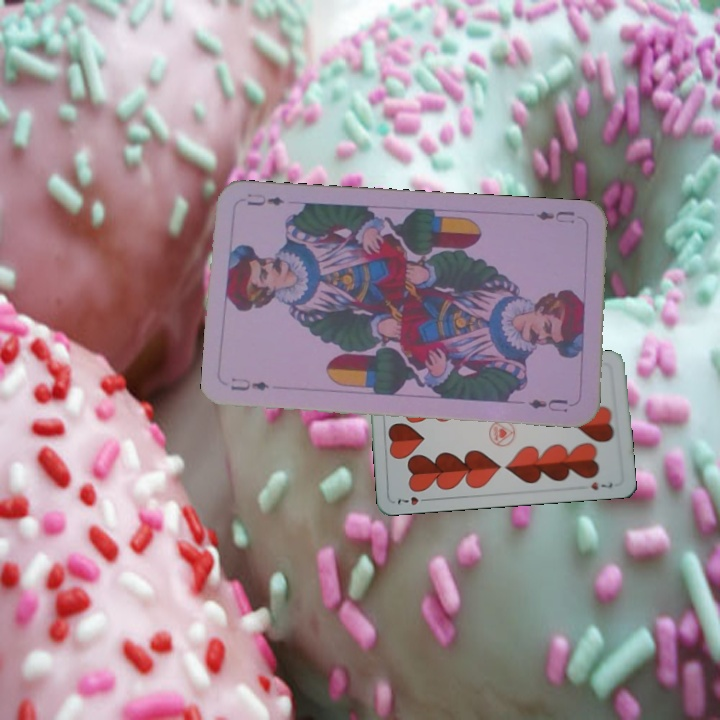EU: (226, 373, 272, 393), (532, 206, 577, 226)
H7: (393, 493, 432, 508)
